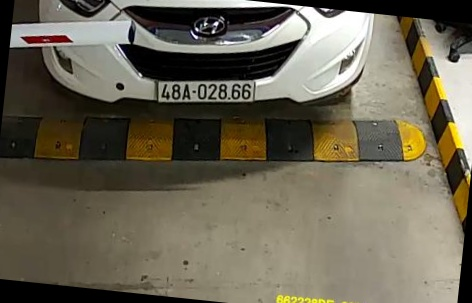plate: (148, 63, 258, 110)
